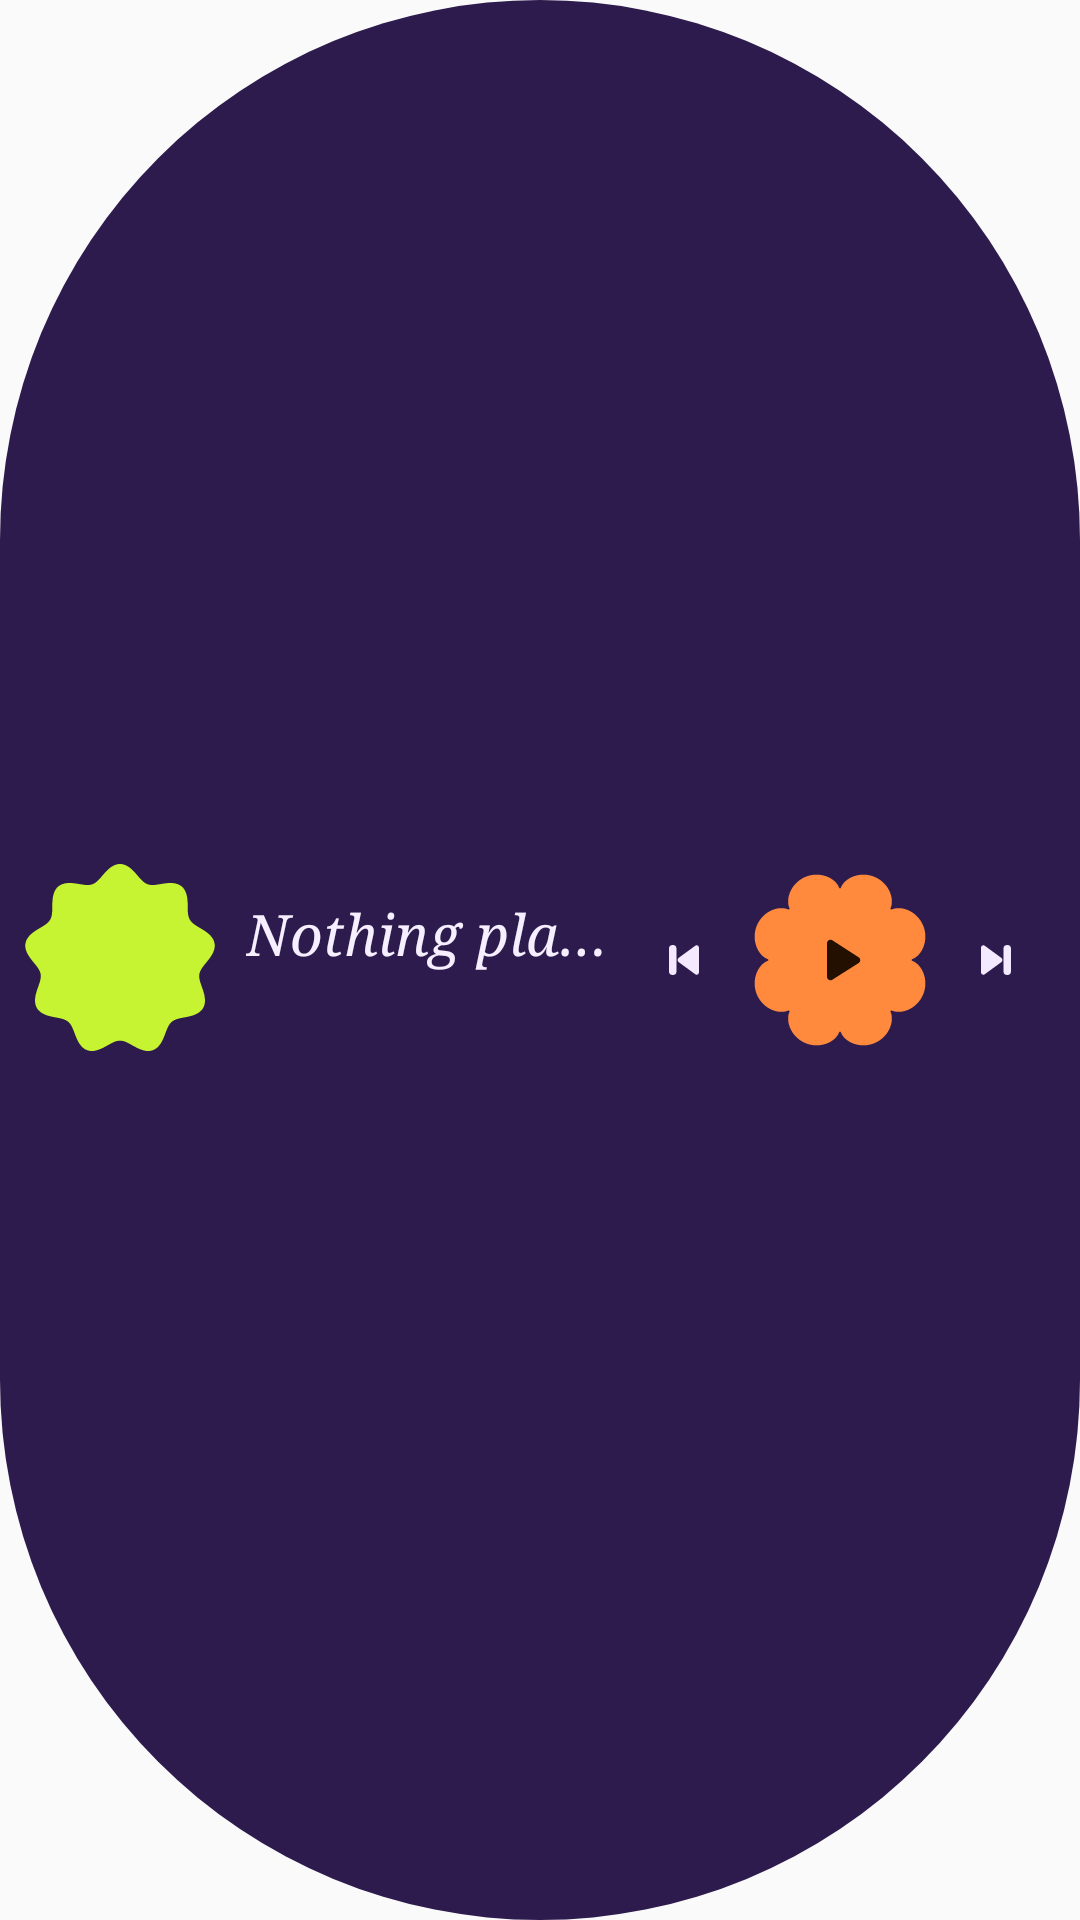

Point at icon controls on the screen. Image size 1080×1920, points as (x,y).
Next track: (996,960)
Previous track: (684,960)
